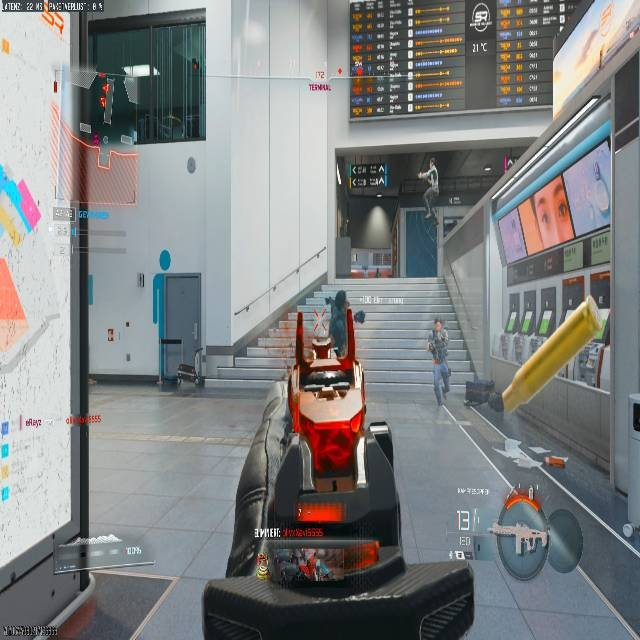head: (432, 318, 442, 332)
player: (426, 318, 450, 408), (416, 156, 440, 222)
